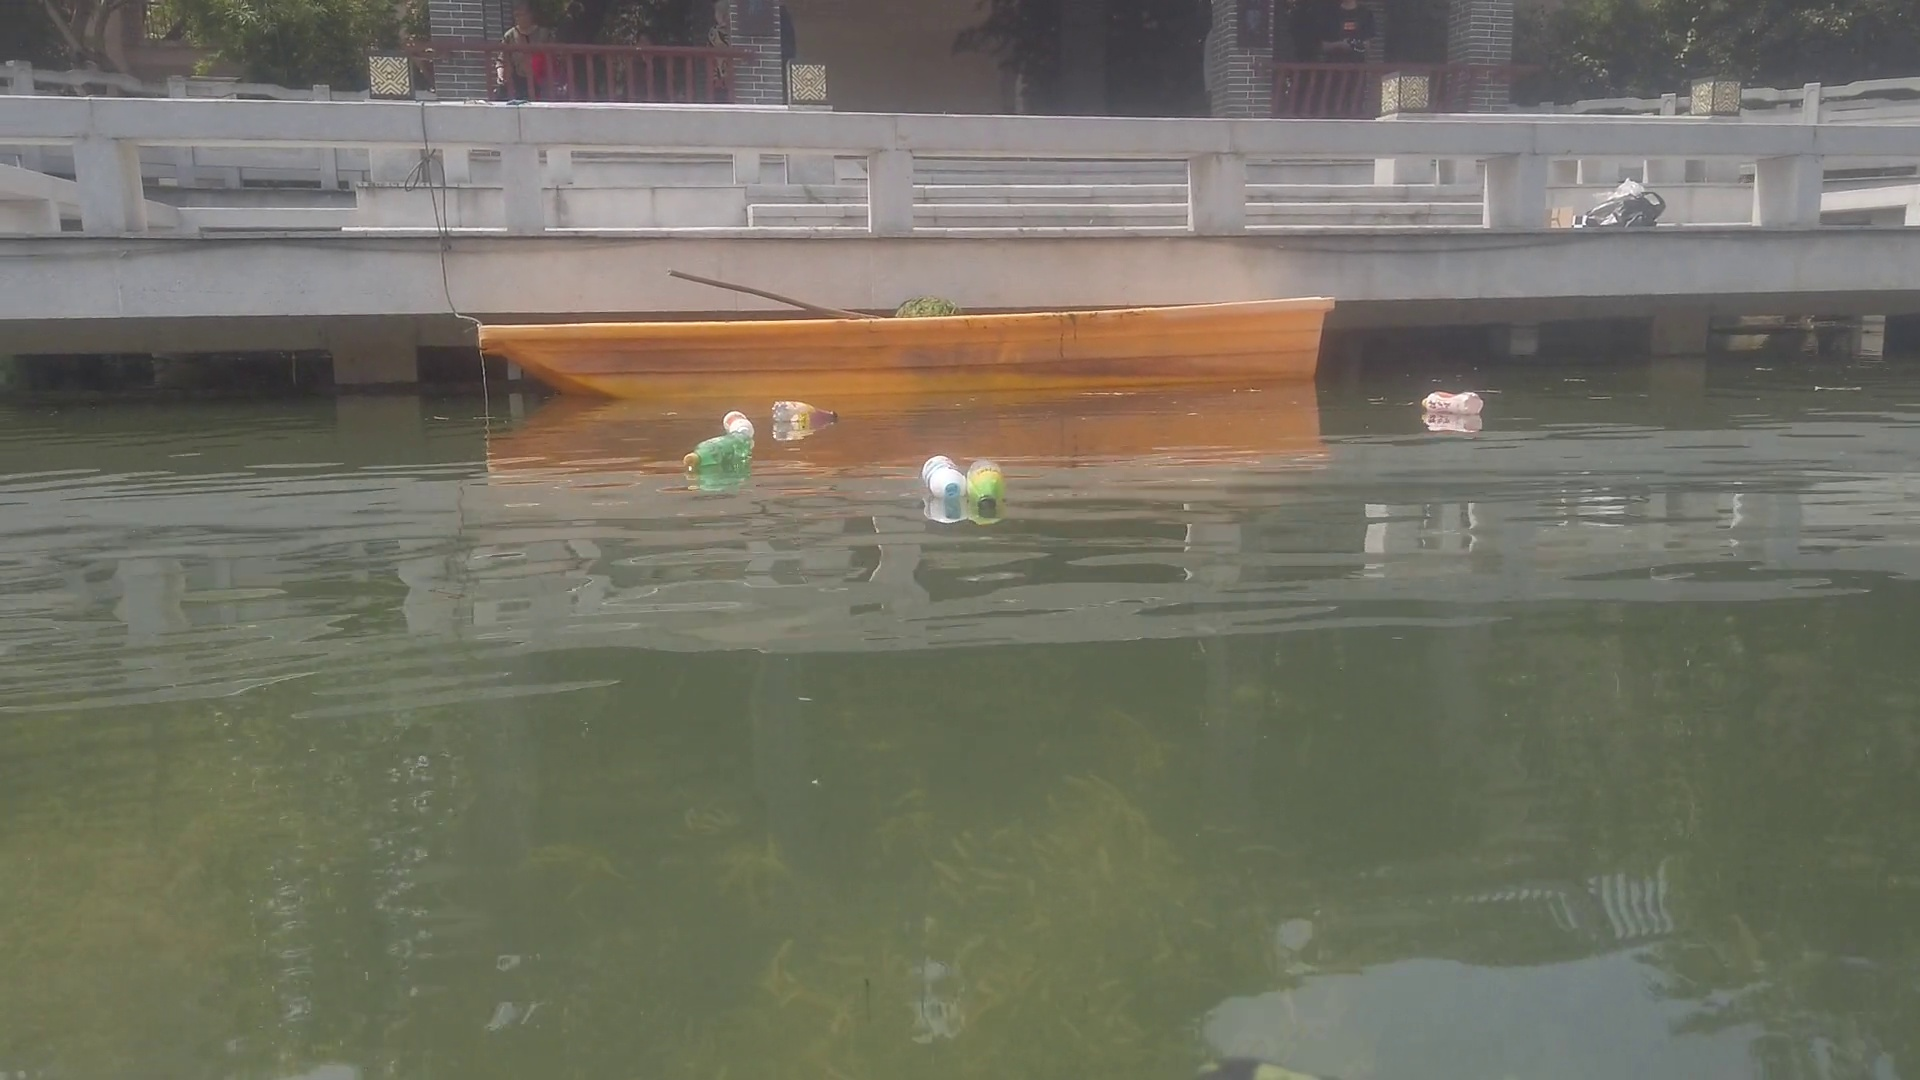bottle: (682, 434, 753, 467), (965, 464, 1009, 510), (922, 454, 964, 501), (771, 401, 835, 425), (1419, 392, 1485, 411), (723, 407, 754, 440)
